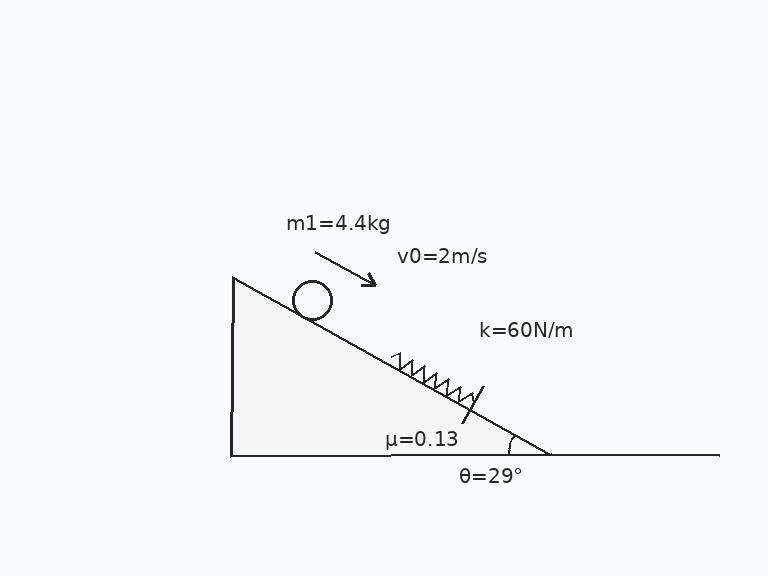ball: (290, 278, 334, 322)
ramp: (230, 276, 551, 456)
spring: (389, 352, 476, 404)
